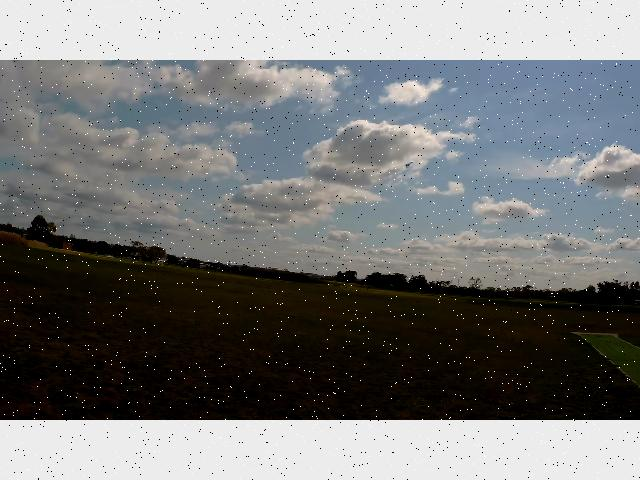Anti-Drone: (394, 154, 424, 176)
